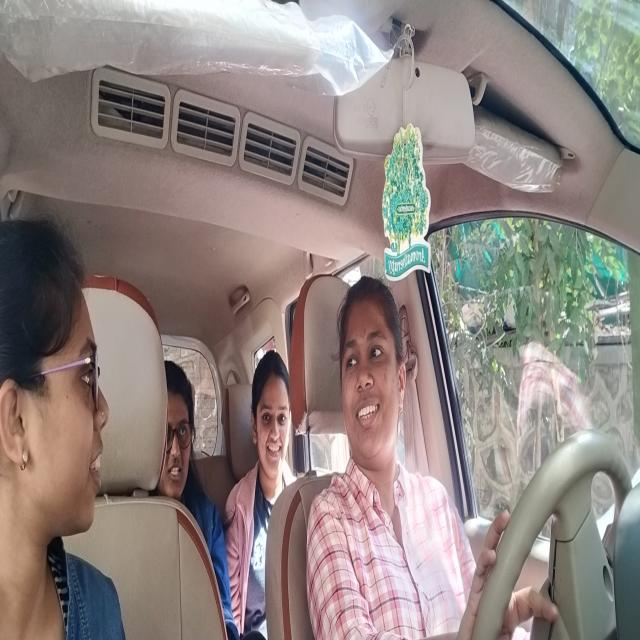LeftRight: (340, 272, 408, 494)
person: (0, 220, 115, 585), (253, 347, 292, 484), (164, 356, 200, 497)
talking: (86, 442, 106, 490), (355, 399, 381, 432)
